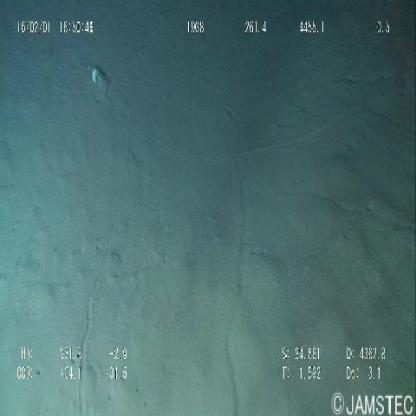Rác: (82, 58, 119, 104)
